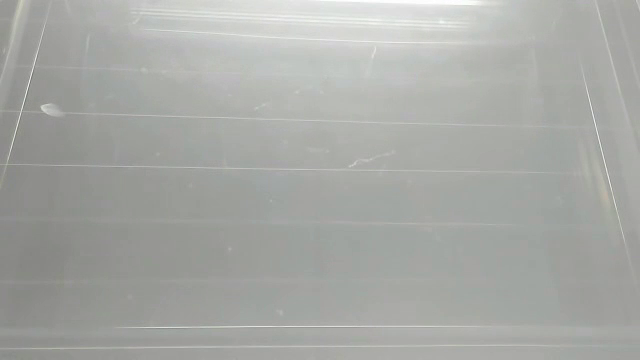alpha: (37, 100, 66, 122)
